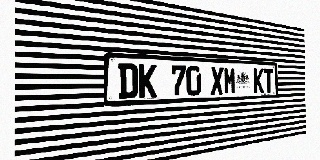0: (186, 66, 201, 96)
7: (170, 65, 186, 97)
D: (118, 63, 138, 99)
K: (139, 64, 157, 98), (253, 68, 264, 93)
M: (224, 67, 236, 95)
T: (264, 69, 273, 93)
X: (211, 67, 223, 95)
